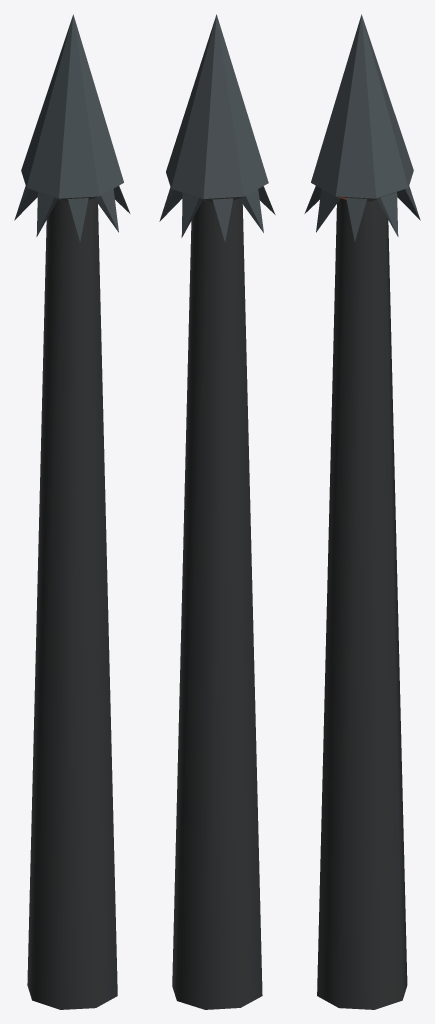
File: Shock Spike.fbx
3 renders of one model, left to right at view 1: azimuth 30°, elevation 25°; view 2: azimuth 210°, elevation 25°; view 3: azimuth 330°, elevation 25°, orthographic.
Parts seen in each view (by area): view 1: Shock Prong.R.002; view 2: Shock Prong.R.002; view 3: Shock Prong.R.002.
Part boxes in pixels (box(x1,y1,x2,y2)): Shock Prong.R.002: box(14, 14, 130, 1009); Shock Prong.R.002: box(159, 14, 275, 1009); Shock Prong.R.002: box(304, 14, 420, 1009).
Size of the model in its own units: 91.65 by 911 by 91.65.
